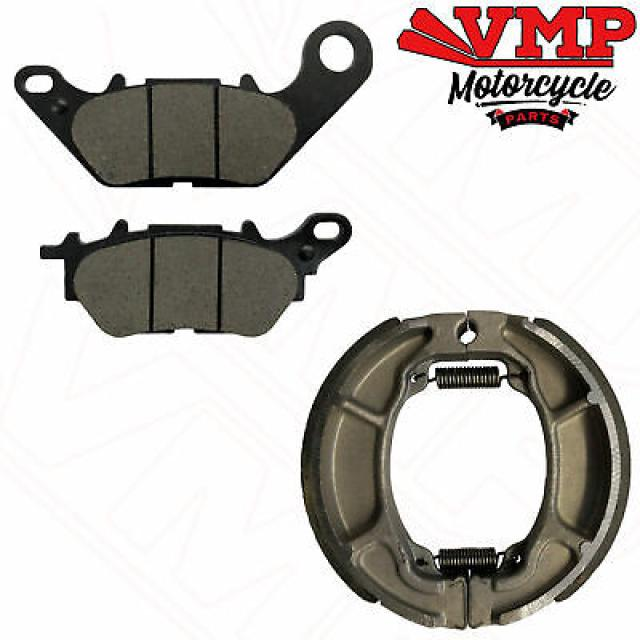brake_pad: (300, 295, 638, 632), (5, 20, 375, 191), (15, 208, 363, 341)
